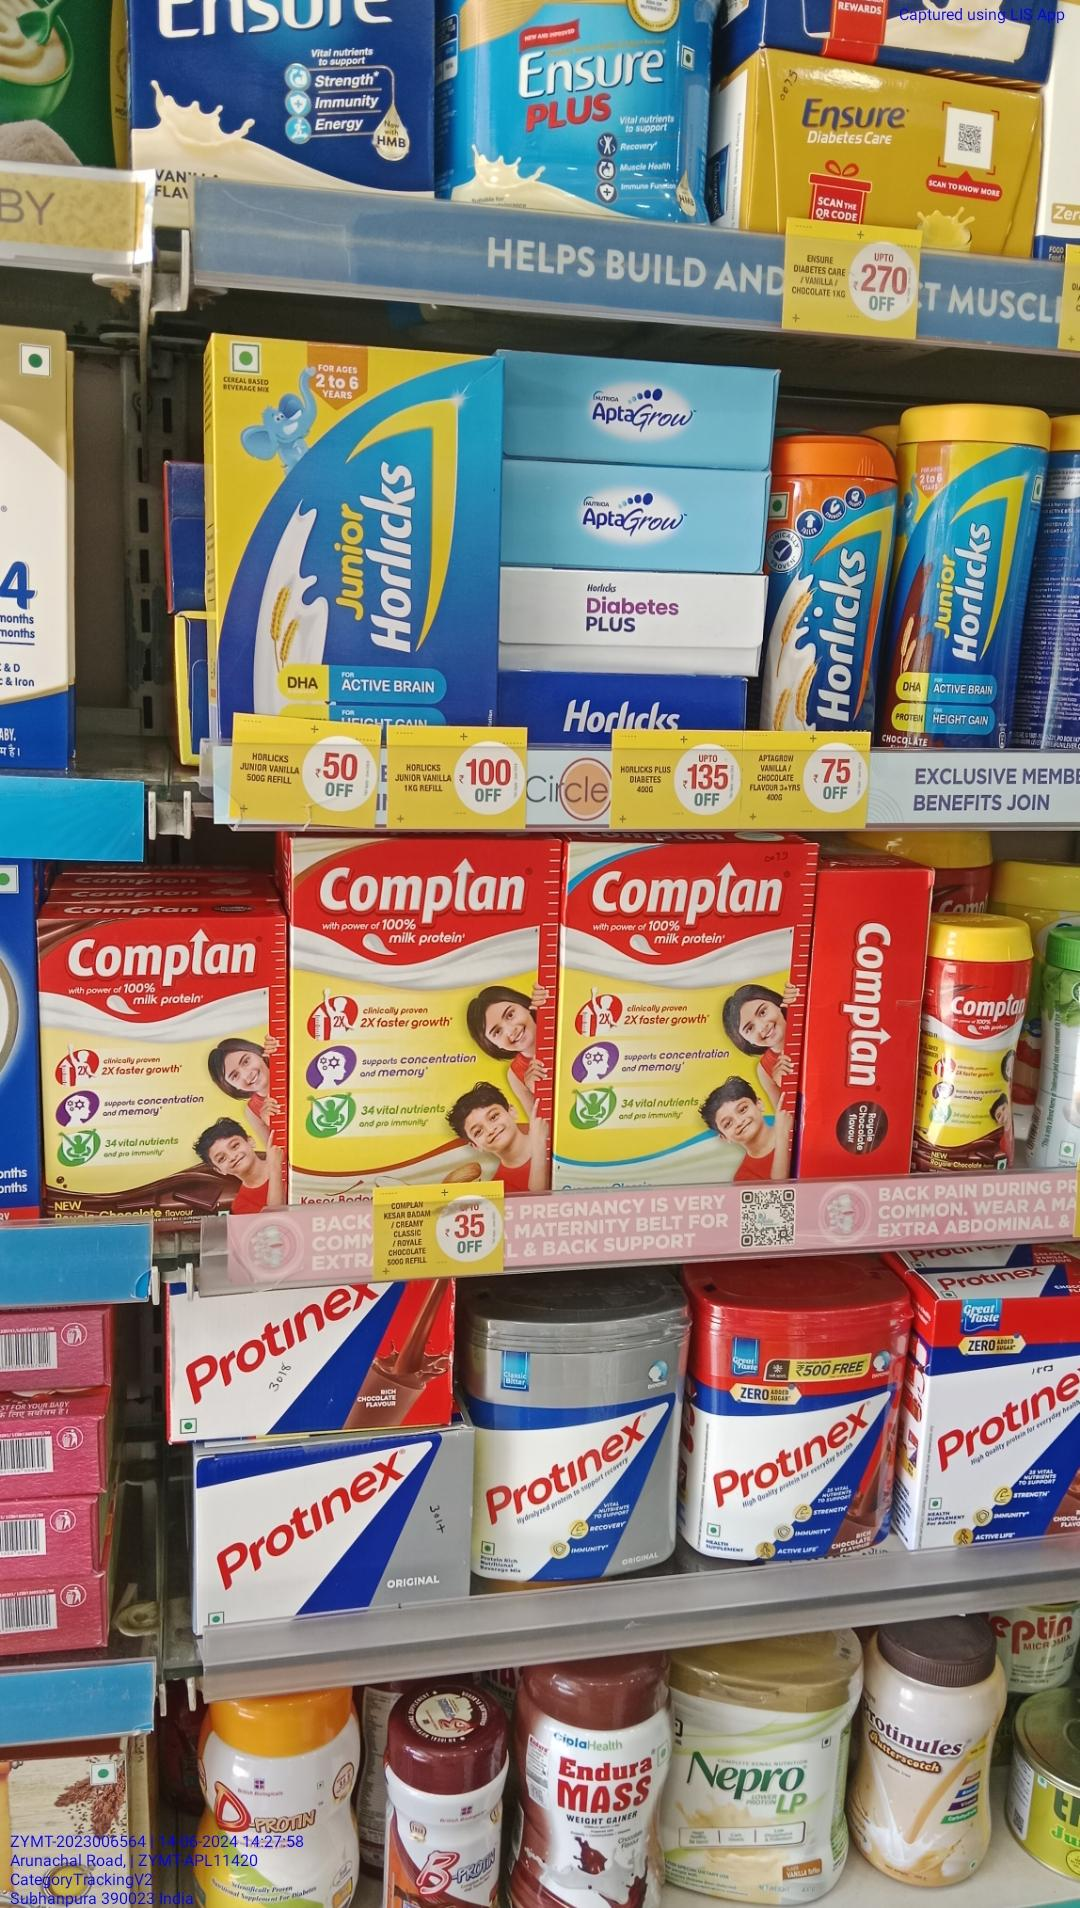COMPLAN_CHOCOLATE_500_GMS_JAR: (921, 912, 1020, 1172)
COMPLAN_CHOCOLATE_500_GMS_PACK: (39, 919, 286, 1212)
COMPLAN_CREAMY_CLASSIC_500_G_PACK: (562, 839, 793, 1186)
COMPLAN_KESAR_BADAM_500_GMS_PACK: (292, 841, 556, 1174)
HORLICK_CLASSIC_MALT_500_G_JAR: (773, 436, 897, 726)
PROTINEX_CHOCOLATE_400_G_JAR: (687, 1299, 894, 1554)
PROTINEX_ORIGINAL_400_G_JAR: (478, 1317, 683, 1582)
